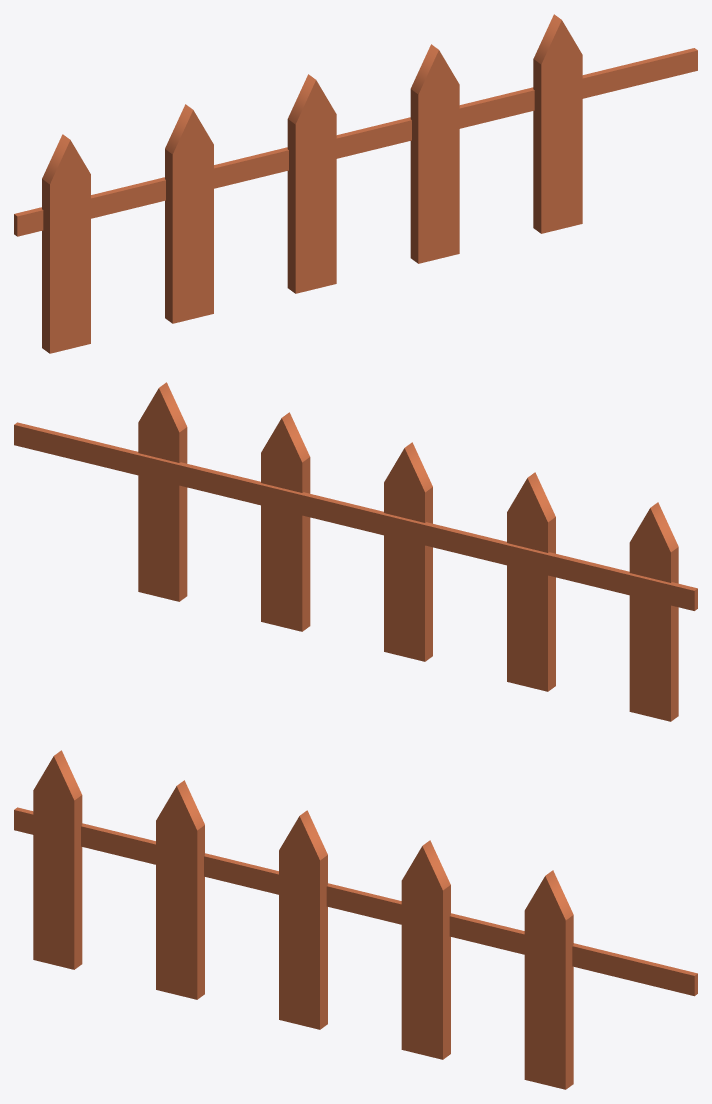
File: Wooden_fence_1.FBX
3 views of the same model, one above another, from view 1: azimuth 30°, elevation 25°; view 2: azimuth 150°, elevation 25°; view 3: azimuth 330°, elevation 25° (orthographic).
Visible parts, largest first — view 1: Wooden fence 01; view 2: Wooden fence 01; view 3: Wooden fence 01.
Part boxes in pixels (bbox=[...]): Wooden fence 01: bbox=[14, 14, 697, 353]; Wooden fence 01: bbox=[14, 382, 697, 721]; Wooden fence 01: bbox=[14, 750, 697, 1089].
Size of the model in its own units: 6.14 by 1.8 by 0.1572.
Materials: 1 (1 with a texture image).
